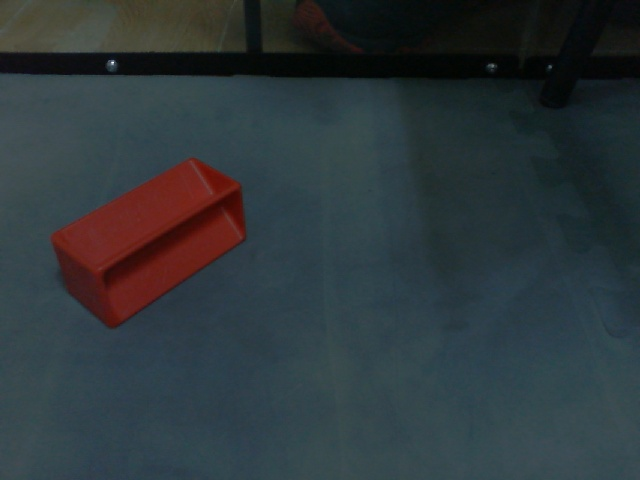RedSample: (49, 154, 249, 332)
